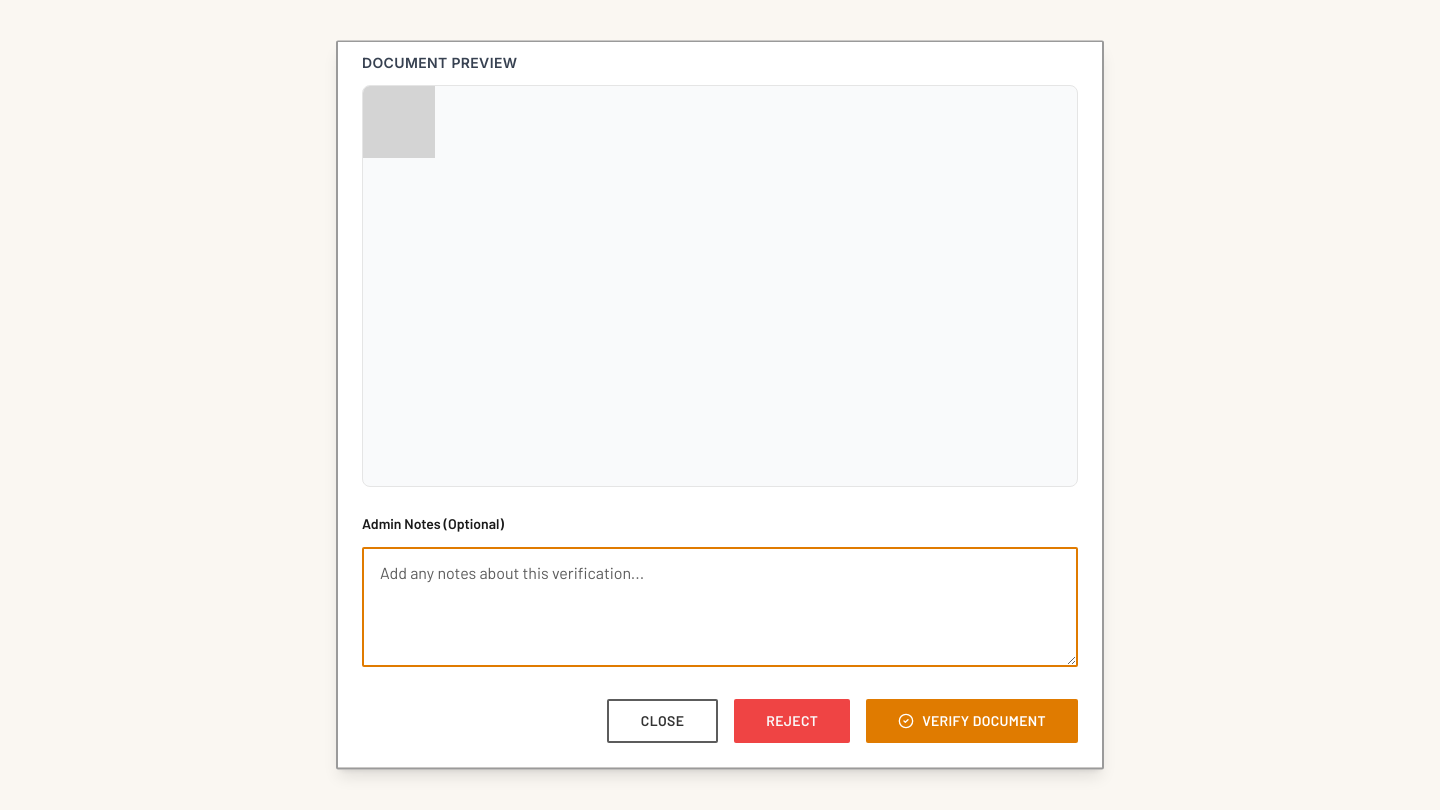
Test: ComplianceVerifyDialog › Form Interactions › should show reject reason field when Reject button is clicked
(page scrolled)
Click the button "Reject". click: (792, 722)
box: [734, 700, 850, 744]
(page scrolled)
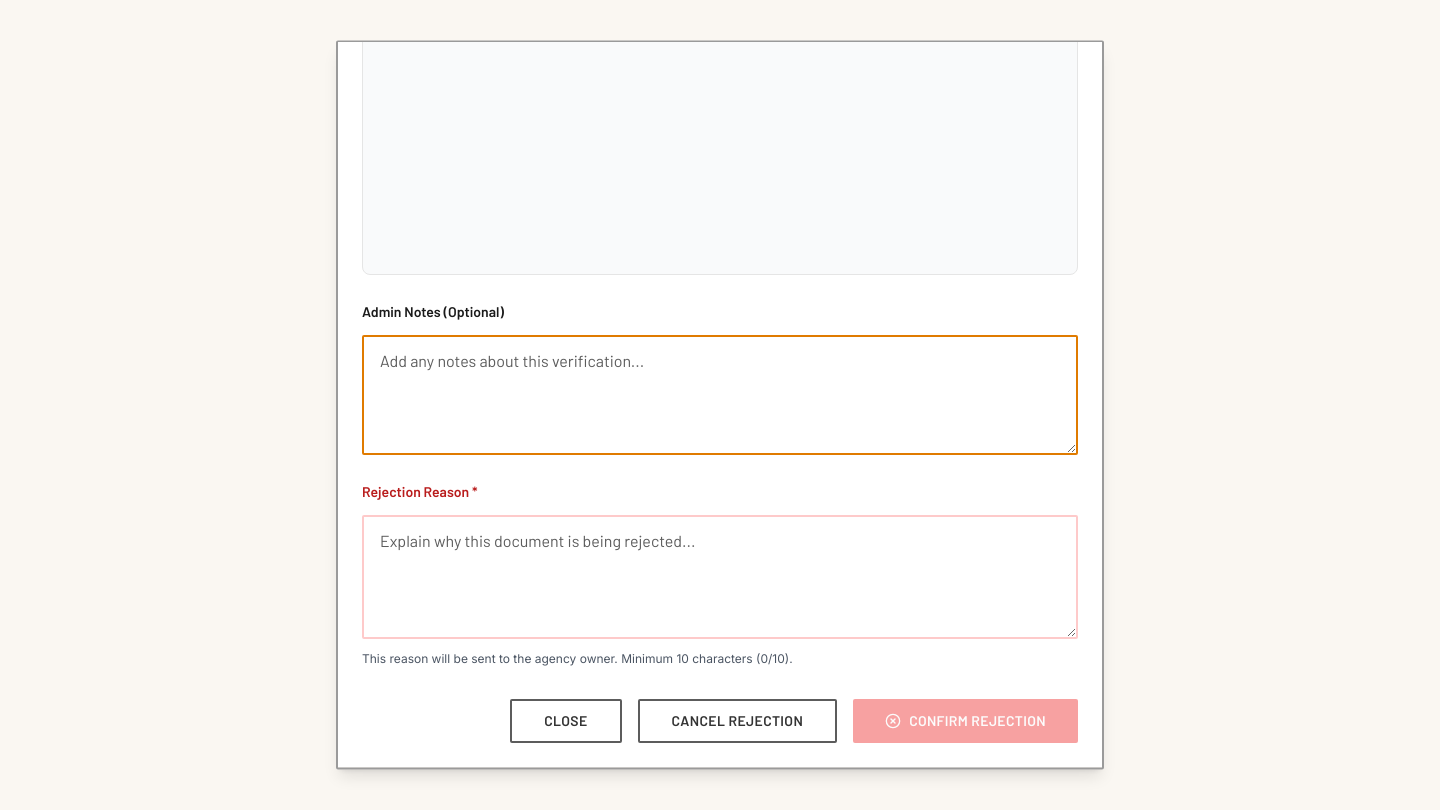
Expected: the text "Rejection Reason *" is shown, [362, 484, 478, 500]
Expected: the text box with placeholder "Explain why this document is being rejected..." is shown, [362, 516, 1078, 640]
